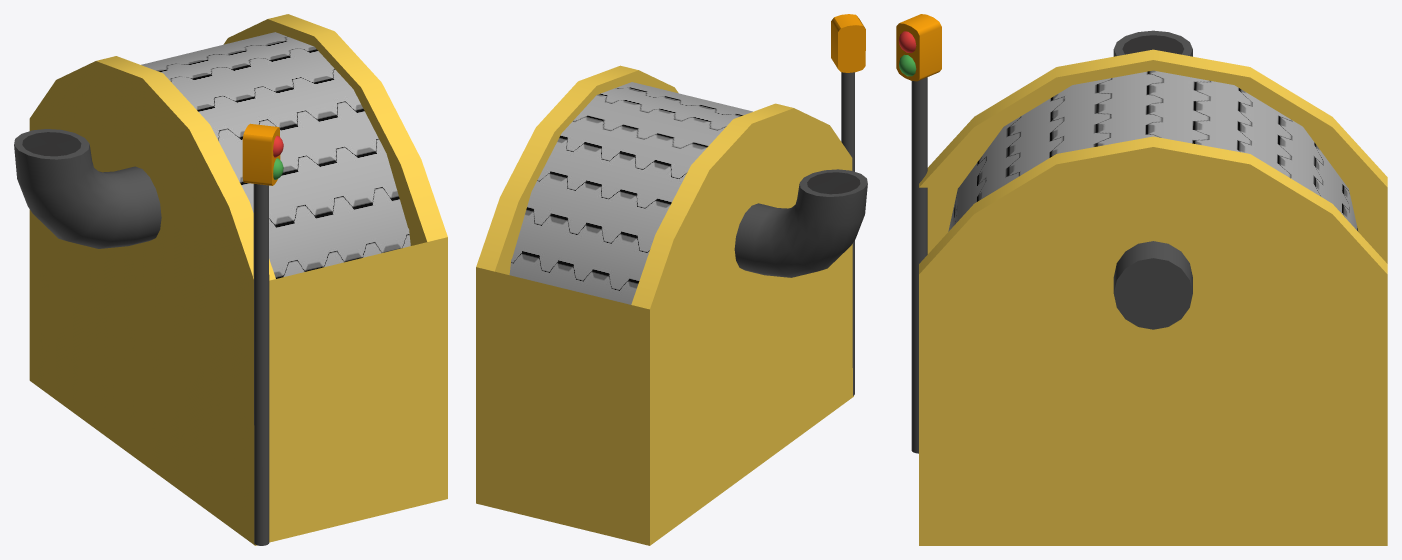
The model's file is trap_20.fbx.
3 views of the same model, side by side, from view 1: azimuth 30°, elevation 25°; view 2: azimuth 150°, elevation 25°; view 3: azimuth 270°, elevation 25° (orthographic). The views are drawn at different scales.
Parts seen in each view (by area): view 1: trap_020, trap_020_rotate; view 2: trap_020, trap_020_rotate; view 3: trap_020, trap_020_rotate.
Part boxes in pixels (x1=…): trap_020: x1=14, y1=14, x2=447, y2=545; trap_020_rotate: x1=141, y1=32, x2=410, y2=278; trap_020: x1=476, y1=14, x2=867, y2=545; trap_020_rotate: x1=509, y1=82, x2=752, y2=304; trap_020: x1=896, y1=14, x2=1387, y2=545; trap_020_rotate: x1=948, y1=70, x2=1358, y2=231.
Bounding box in the file's own units: 2854 × 3241 × 3347.
Materials: 2 (2 with a texture image).
